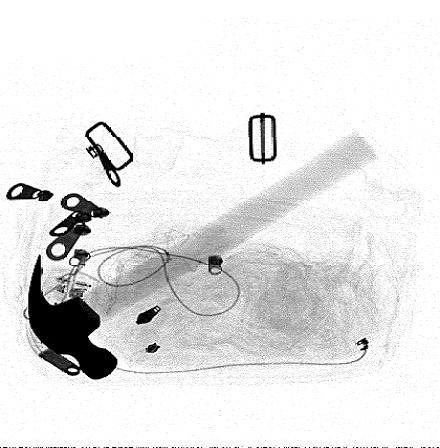Hammer: (28, 129, 380, 380)
